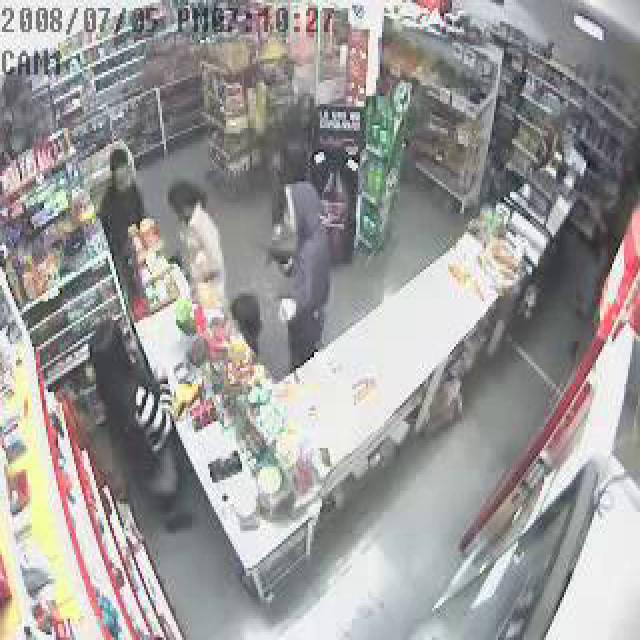robbery: (230, 76, 385, 473)
